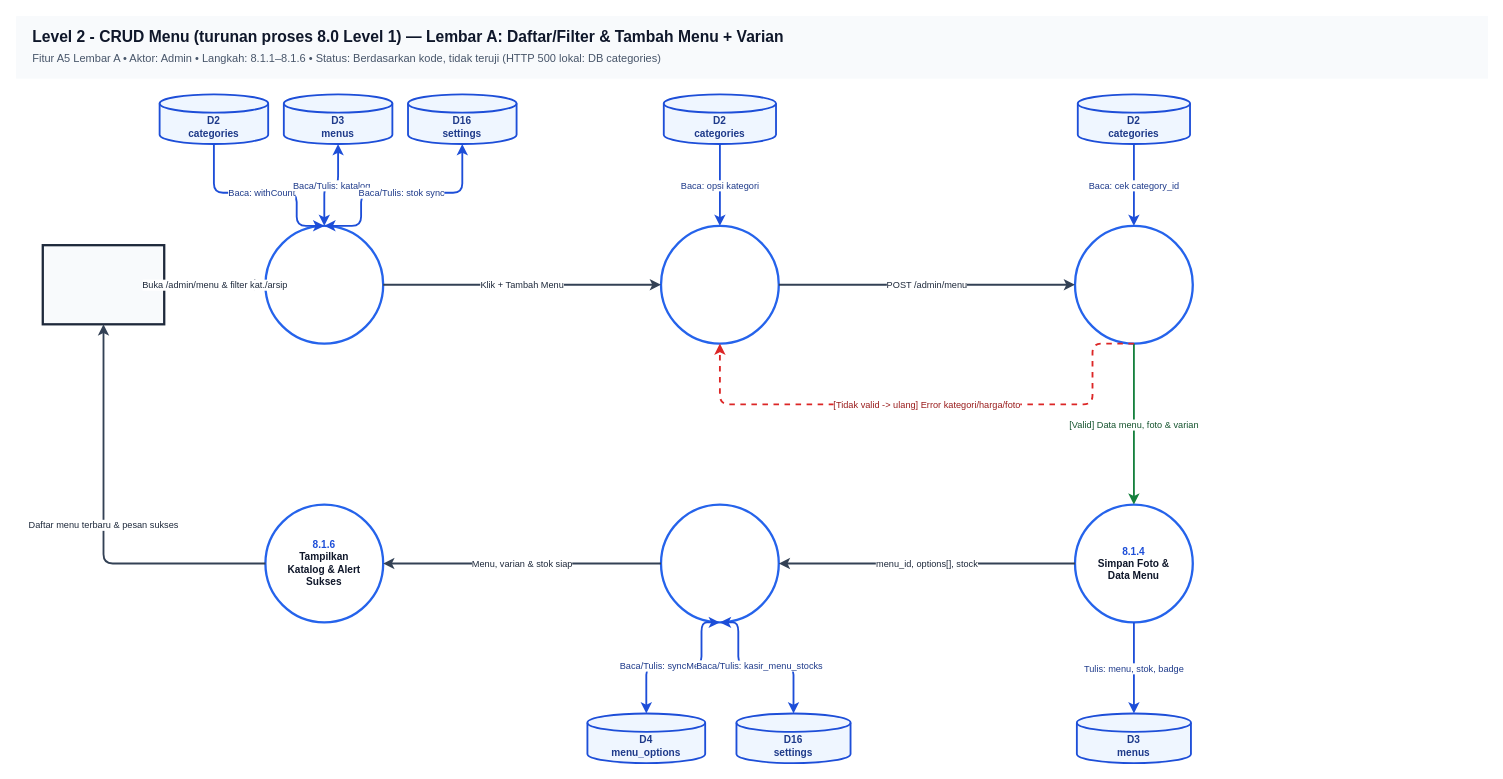
Some shapes in this 1503 by 779 pixel diagram are drawn without their labels. Here are the shapes that lost their labels. From the top down, the box of each, then its label:
(41, 244, 165, 325): Admin Terautentikasi
(264, 224, 384, 344): 8.1.1 Sinkron & Muat Katalog Menu
(659, 224, 780, 344): 8.1.2 Isi Form Menu & Opsi Varian
(1073, 224, 1194, 344): 8.1.3 Validasi Menu, Harga, Varian & Foto
(659, 503, 780, 623): 8.1.5 Simpan Varian & Sinkron Stok POS
